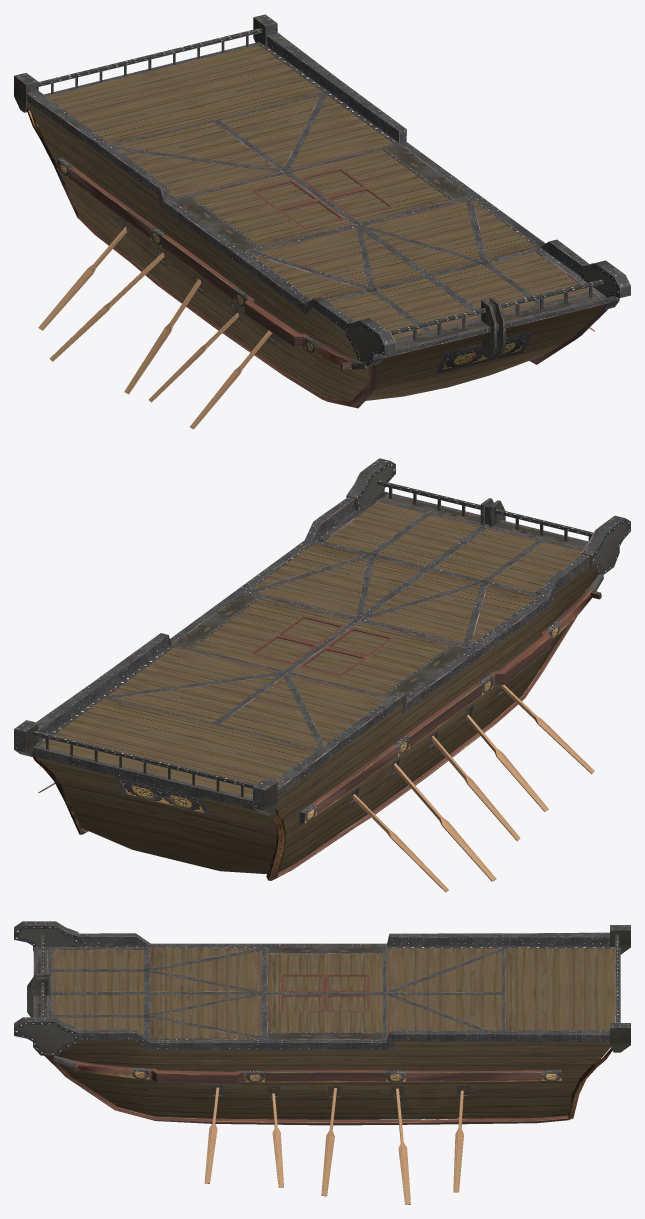
The model's file is oBldShip01b.FBX.
3 views of the same model, one above another, from view 1: azimuth 30°, elevation 25°; view 2: azimuth 150°, elevation 25°; view 3: azimuth 270°, elevation 25° (orthographic). The views are drawn at different scales.
Parts seen in each view (by area): view 1: oBldShip01b; view 2: oBldShip01b; view 3: oBldShip01b.
Part boxes in pixels (x1,y1,x2,y2): oBldShip01b: (14,14,630,429); oBldShip01b: (14,458,630,892); oBldShip01b: (14,921,630,1204).
Size of the model in its own units: 199 by 73.74 by 285.
Materials: 1 (1 with a texture image).
